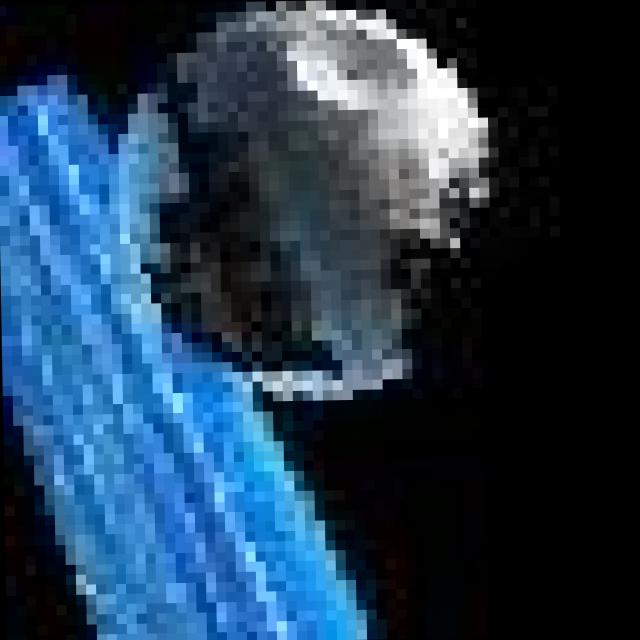Death Star: (118, 7, 496, 417)
